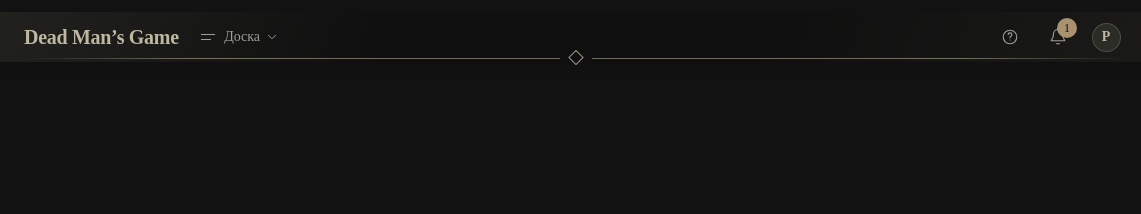
Test: PanelNavigation › shows unambiguous team_member_assigned participation notifications
The image size is (1141, 214).
What coordinates should you click on to do the following:
click the button named "Открыть уведомления"
I would click on:
 (1058, 37)
Its box is [1036, 15, 1080, 59].
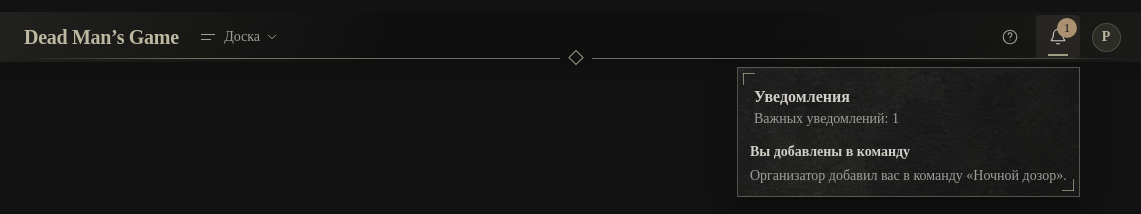
expect the menu item "Вы добавлены в команду" shows "Организатор добавил вас в команду «Ночной дозор».": met, box [738, 139, 1079, 188]
